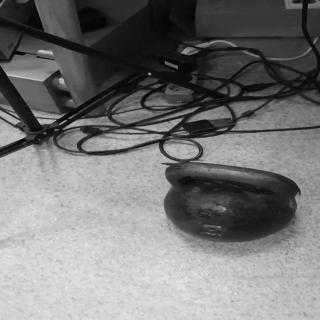kettlebell: (162, 157, 306, 246)
